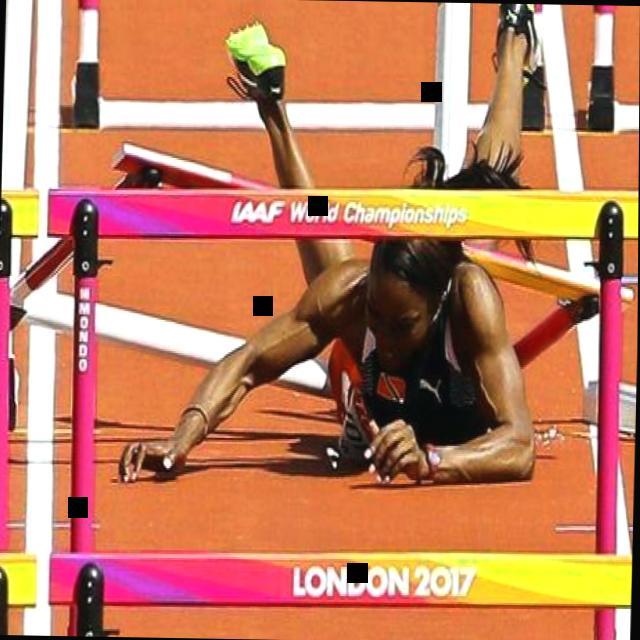Fall-Detected: (119, 0, 581, 533)
